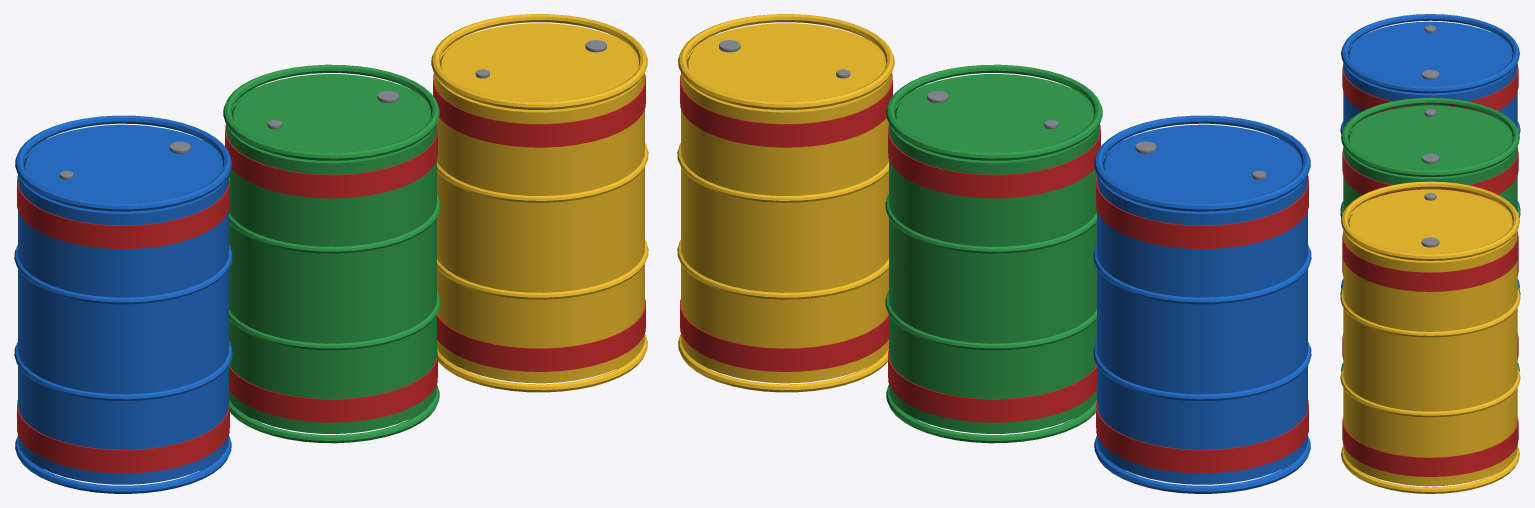
File: drums.glb
The picture shows the model from 3 angles, left to right: view 1: azimuth 30°, elevation 25°; view 2: azimuth 150°, elevation 25°; view 3: azimuth 270°, elevation 25°; orthographic projection. The views are drawn at different scales.
Visible parts, largest first — view 1: drum_blue_geo, drum_yellow_geo, drum_green_geo; view 2: drum_blue_geo, drum_yellow_geo, drum_green_geo; view 3: drum_yellow_geo, drum_green_geo, drum_blue_geo.
Boxes of the visible parts, x1,y1,x2,y2 form: drum_blue_geo: (14,115,232,493); drum_yellow_geo: (431,14,648,392); drum_green_geo: (223,64,440,443); drum_blue_geo: (1093,115,1311,493); drum_yellow_geo: (677,14,894,392); drum_green_geo: (885,64,1102,443); drum_yellow_geo: (1340,181,1520,493); drum_green_geo: (1340,97,1520,371); drum_blue_geo: (1340,14,1520,287).
Bounding box in the file's own units: 1.92 × 0.88 × 0.6.
